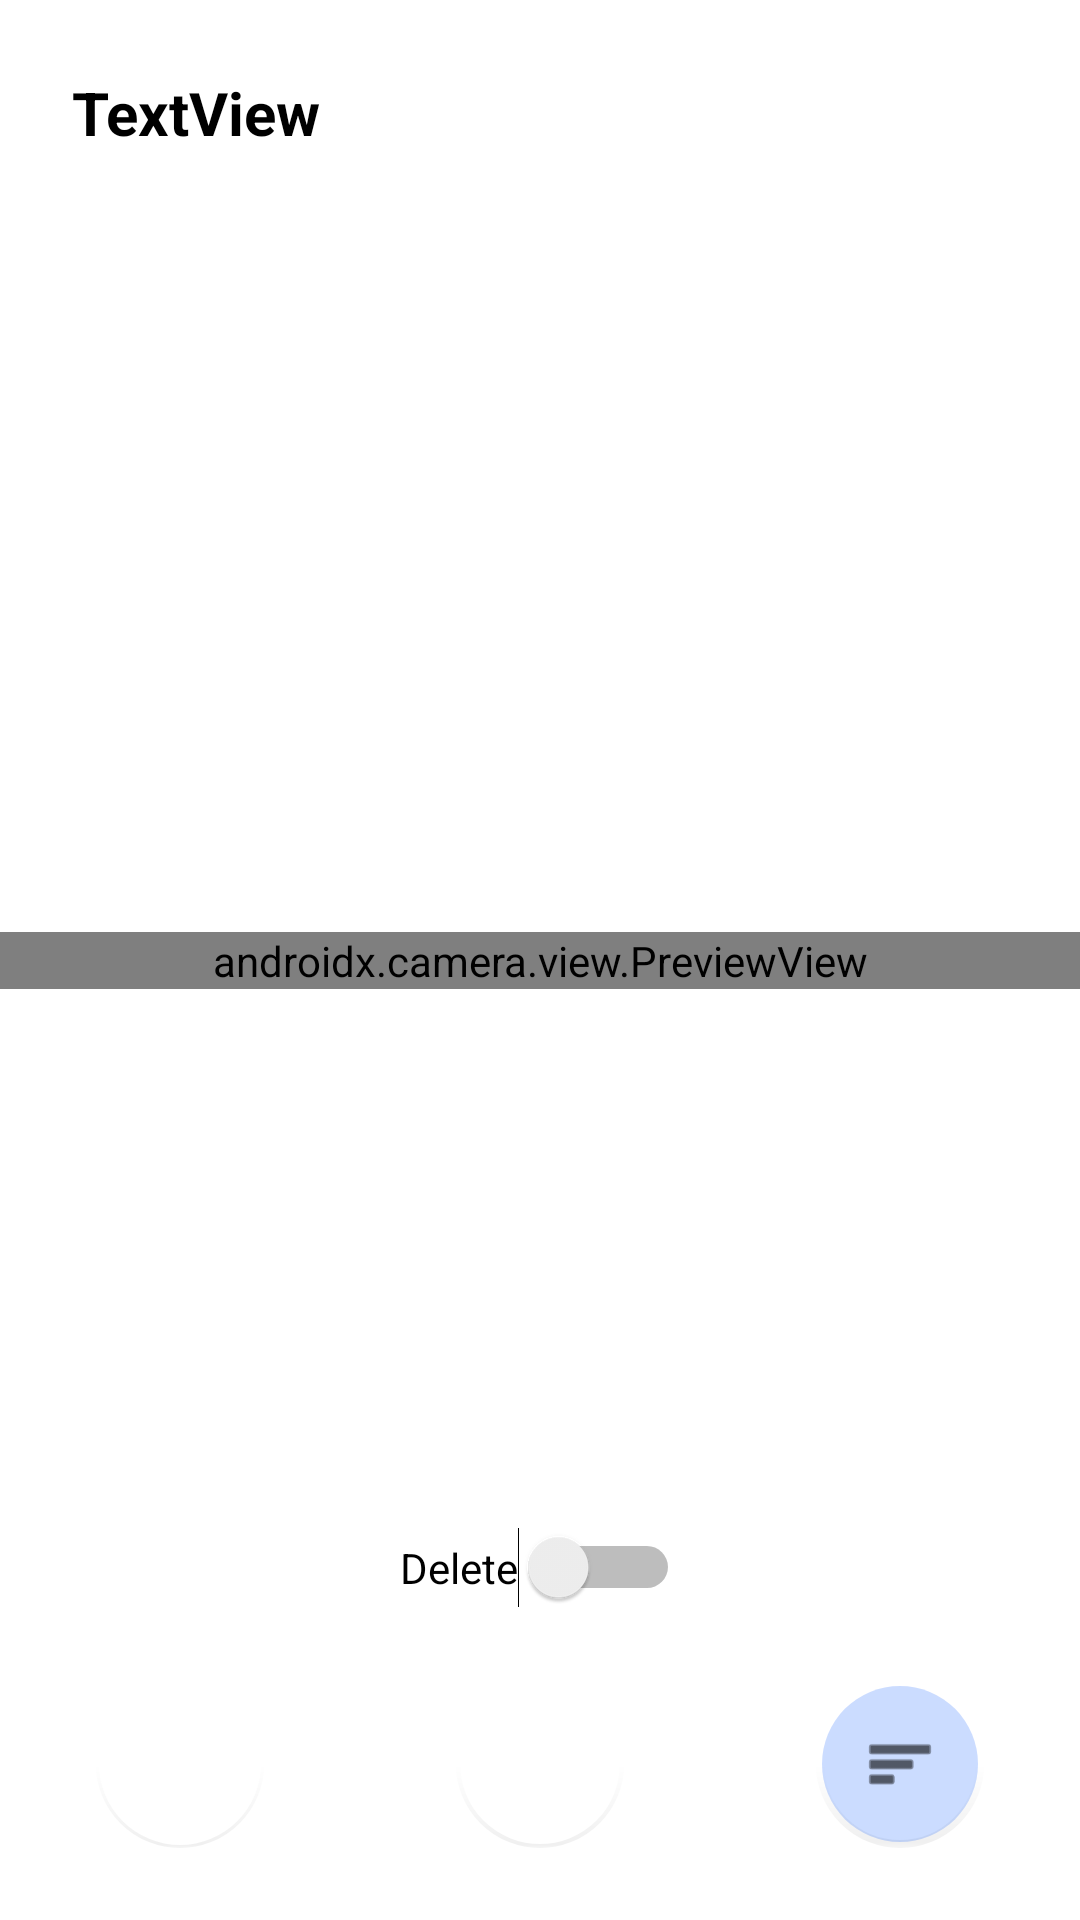

Screen size 1080 × 1920. Icon name, then its center in pixels as [x,y]:
sort by size: [900,1764]
